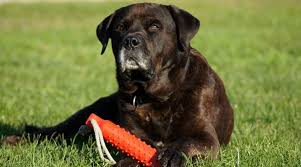Bulldog: (86, 7, 236, 132)
